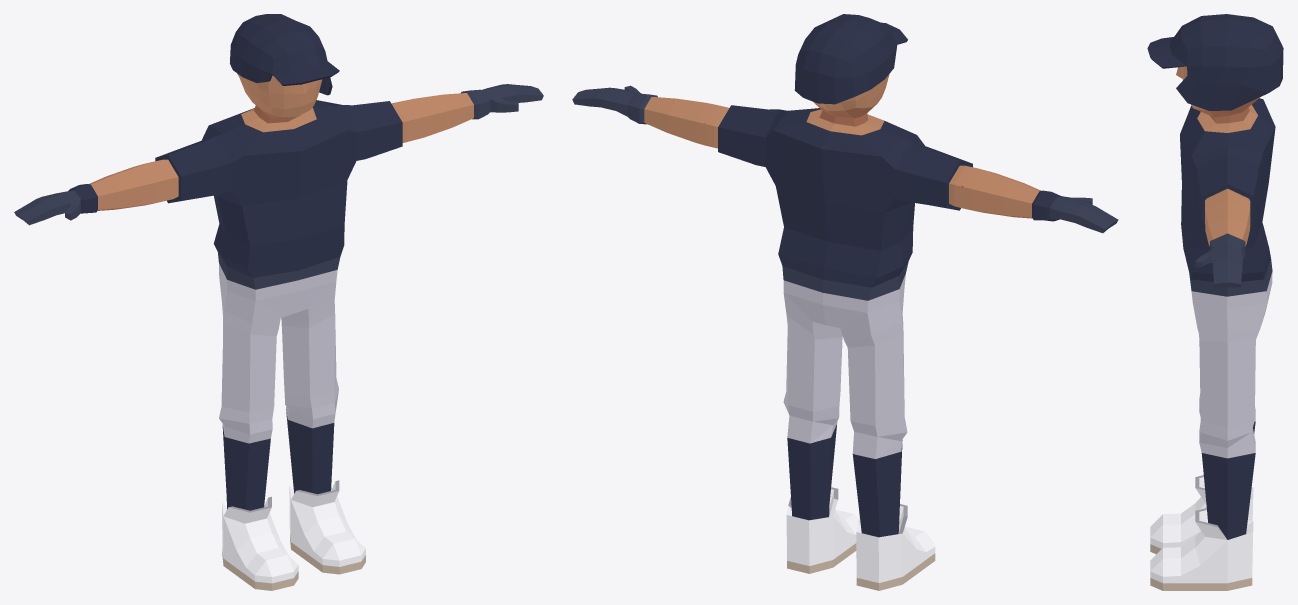
File: Bateador_V1.glb
The picture shows the model from 3 angles, left to right: view 1: azimuth 30°, elevation 25°; view 2: azimuth 150°, elevation 25°; view 3: azimuth 270°, elevation 25°; orthographic projection. The views are drawn at different scales.
Parts seen in each view (by area): view 1: Body, Helmet; view 2: Body, Helmet; view 3: Body, Helmet.
Boxes of the visible parts, x1,y1,x2,y2 form: Body: (14, 73, 543, 590); Helmet: (230, 14, 339, 95); Body: (572, 74, 1118, 590); Helmet: (794, 14, 907, 104); Body: (1150, 66, 1275, 590); Helmet: (1147, 14, 1283, 110).
Bounding box in the file's own units: 4.25 × 4.16 × 0.9417.
Materials: 1 (1 with a texture image).
